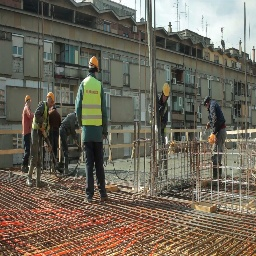helmet: (87, 54, 101, 74)
person: (76, 52, 110, 206), (31, 92, 54, 185), (204, 96, 228, 177)
vest: (83, 79, 102, 126)
